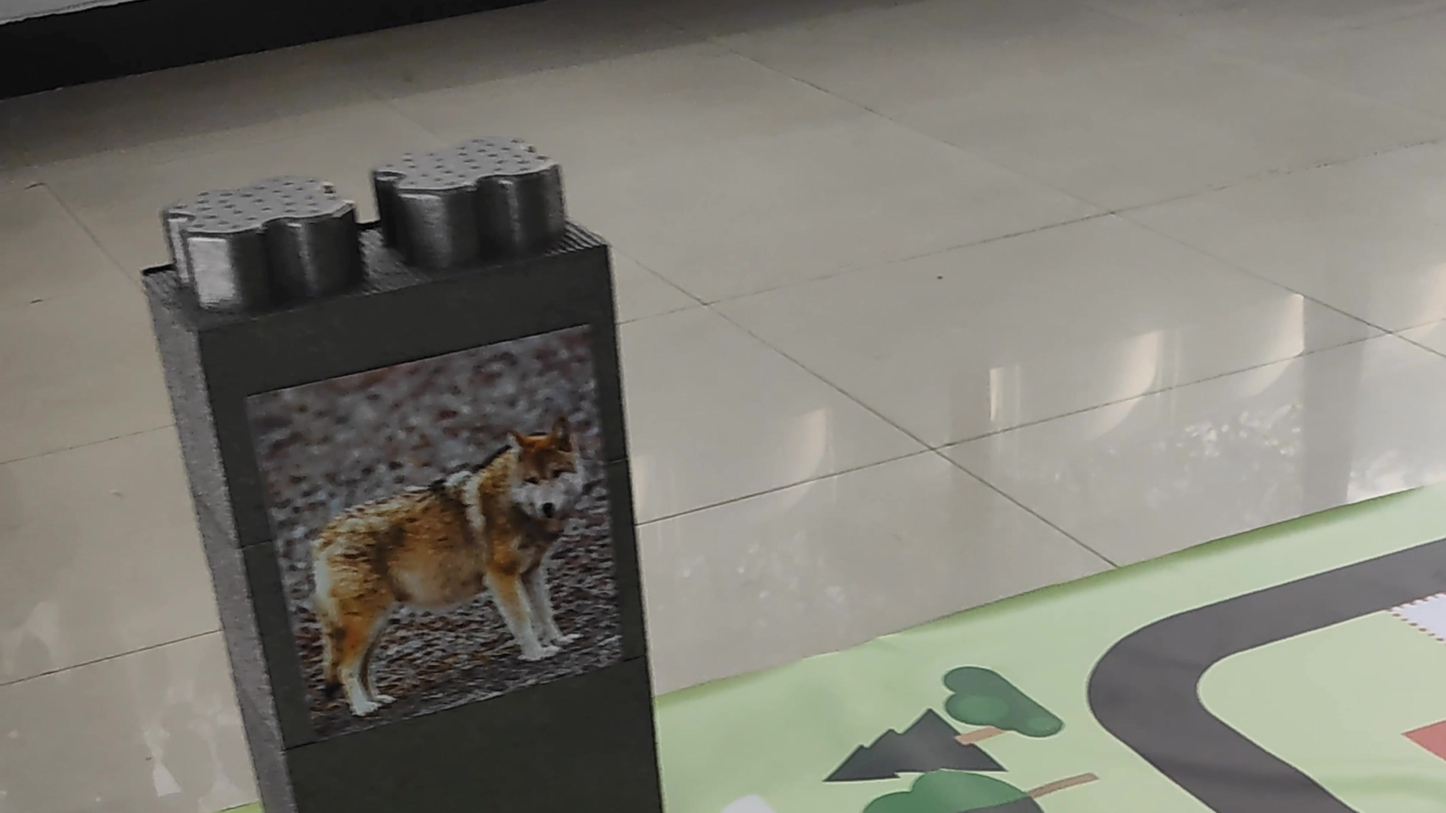wolf: (284, 418, 601, 704)
